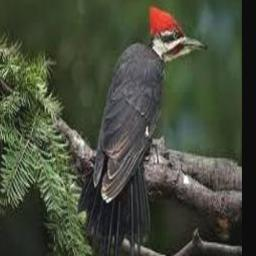Woodpecker: (79, 3, 206, 256)
